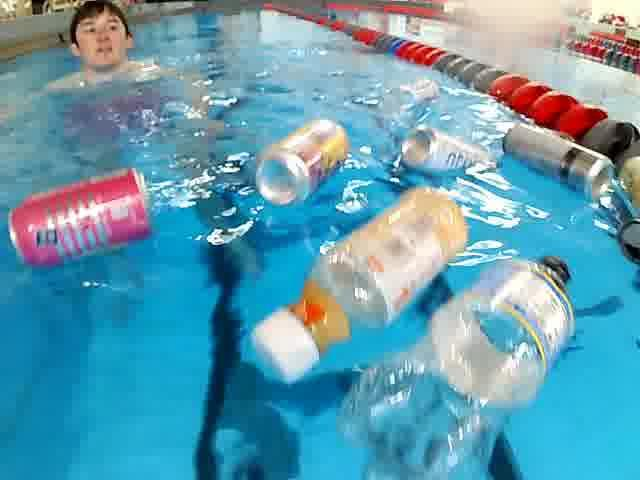Bottle: (330, 243, 599, 480), (236, 194, 503, 408)
Can: (0, 152, 179, 283), (247, 90, 355, 211), (494, 102, 604, 208), (384, 115, 496, 189)
